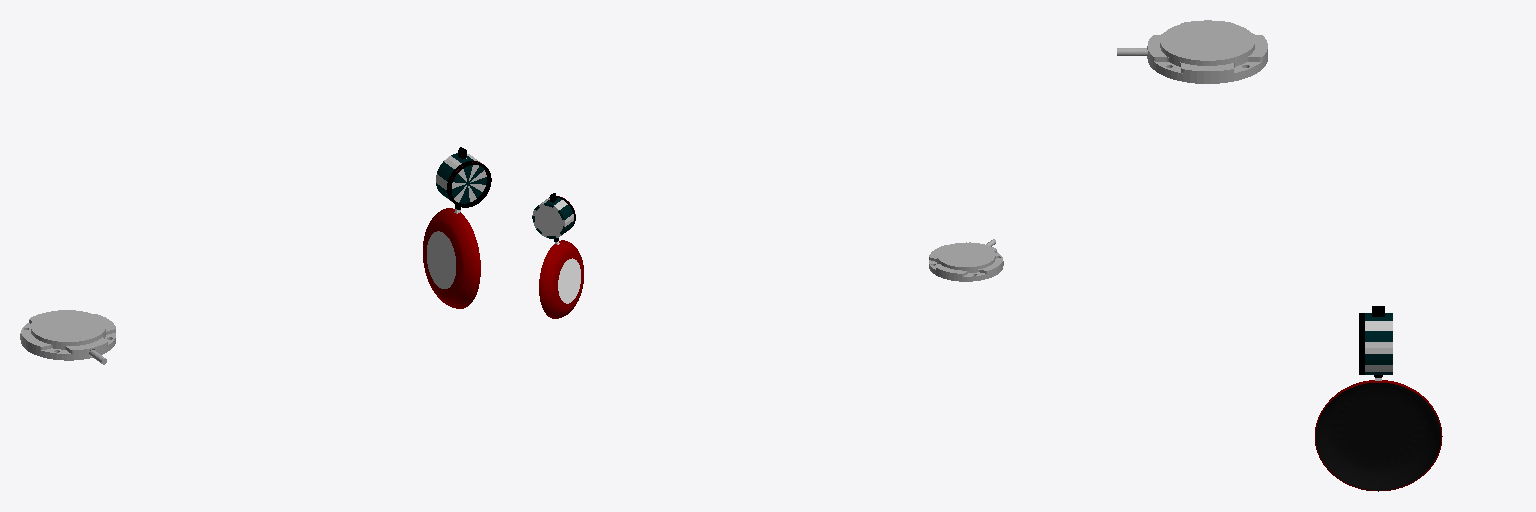
The robot description file, URDF, robot "ur5":
<?xml version="1.0" encoding="utf-8"?>
<!-- =================================================================================== -->
<!-- |    This document was autogenerated by xacro from ur5_joint_limited_robot.urdf.xacro | -->
<!-- |    EDITING THIS FILE BY HAND IS NOT RECOMMENDED                                 | -->
<!-- =================================================================================== -->
<robot name="ur5">
  <gazebo>
    <plugin filename="libgazebo_ros_control.so" name="ros_control">
      <!--robotNamespace>/</robotNamespace-->
      <!--robotSimType>gazebo_ros_control/DefaultRobotHWSim</robotSimType-->
    </plugin>
    <!--
    <plugin name="gazebo_ros_power_monitor_controller" filename="libgazebo_ros_power_monitor.so">
      <alwaysOn>true</alwaysOn>
      <updateRate>1.0</updateRate>
      <timeout>5</timeout>
      <powerStateTopic>power_state</powerStateTopic>
      <powerStateRate>10.0</powerStateRate>
      <fullChargeCapacity>87.78</fullChargeCapacity>     
      <dischargeRate>-474</dischargeRate>
      <chargeRate>525</chargeRate>
      <dischargeVoltage>15.52</dischargeVoltage>
      <chargeVoltage>16.41</chargeVoltage>
    </plugin>
-->
  </gazebo>
  <!-- measured from model -->
  <!--property name="shoulder_height" value="0.089159" /-->
  <!--property name="shoulder_offset" value="0.13585" /-->
  <!-- shoulder_offset - elbow_offset + wrist_1_length = 0.10915 -->
  <!--property name="upper_arm_length" value="0.42500" /-->
  <!--property name="elbow_offset" value="0.1197" /-->
  <!-- CAD measured -->
  <!--property name="forearm_length" value="0.39225" /-->
  <!--property name="wrist_1_length" value="0.093" /-->
  <!-- CAD measured -->
  <!--property name="wrist_2_length" value="0.09465" /-->
  <!-- In CAD this distance is 0.930, but in the spec it is 0.09465 -->
  <!--property name="wrist_3_length" value="0.0823" /-->
  <!-- manually measured -->
  <link name="base_link">
    <visual>
      <geometry>
        <mesh filename="package://ur5_description/meshes/visual/base_blender.dae"/>
      </geometry>
      <material name="LightGrey">
        <color rgba="0.7 0.7 0.7 1.0"/>
      </material>
    </visual>
    <collision>
      <geometry>
        <mesh filename="package://ur5_description/meshes/collision/base.obj"/>
      </geometry>
    </collision>
    <inertial>
      <mass value="4.0"/>
      <origin rpy="0 0 0" xyz="0.0 0.0 0.0"/>
      <inertia ixx="0.00443333156" ixy="0.0" ixz="0.0" iyy="0.00443333156" iyz="0.0" izz="0.0072"/>
    </inertial>
  </link>
  <joint name="shoulder_pan_joint" type="revolute">
    <parent link="base_link"/>
    <child link="shoulder_link"/>
    <origin rpy="0.0 0.0 0.0" xyz="0.0 0.0 0.089159"/>
    <axis xyz="0 0 1"/>
    <limit effort="150.0" lower="-0.0314159265359" upper="0.0314159265359" velocity="3.15"/>
    <dynamics damping="0.0" friction="0.0"/>
  </joint>
  <link name="shoulder_link">
    <visual>
      <geometry>
        <mesh filename="package://ur5_description/meshes/visual/shoulder.dae"/>
      </geometry>
      <material name="LightGrey">
        <color rgba="0.7 0.7 0.7 1.0"/>
      </material>
    </visual>
    <collision>
      <geometry>
        <mesh filename="package://ur5_description/meshes/collision/shoulder.obj"/>
      </geometry>
    </collision>
    <inertial>
      <mass value="3.7"/>
      <origin rpy="0 0 0" xyz="0.0 0.0 0.0"/>
      <inertia ixx="0.010267495893" ixy="0.0" ixz="0.0" iyy="0.010267495893" iyz="0.0" izz="0.00666"/>
    </inertial>
  </link>
  <joint name="shoulder_lift_joint" type="revolute">
    <parent link="shoulder_link"/>
    <child link="upper_arm_link"/>
    <origin rpy="0.0 1.57079632679 0.0" xyz="0.0 0.13585 0.0"/>
    <axis xyz="0 1 0"/>
    <limit effort="150.0" lower="-3.14159265359" upper="0" velocity="3.15"/>
    <dynamics damping="0.0" friction="0.0"/>
  </joint>
  <link name="upper_arm_link">
    <visual>
      <geometry>
        <mesh filename="package://ur5_description/meshes/visual/upperarm.dae"/>
      </geometry>
      <material name="LightGrey">
        <color rgba="0.7 0.7 0.7 1.0"/>
      </material>
    </visual>
    <collision>
      <geometry>
        <mesh filename="package://ur5_description/meshes/collision/upperarm.obj"/>
      </geometry>
    </collision>
    <inertial>
      <mass value="8.393"/>
      <origin rpy="0 0 0" xyz="0.0 0.0 0.28"/>
      <inertia ixx="0.22689067591" ixy="0.0" ixz="0.0" iyy="0.22689067591" iyz="0.0" izz="0.0151074"/>
    </inertial>
  </link>
  <joint name="elbow_joint" type="revolute">
    <parent link="upper_arm_link"/>
    <child link="forearm_link"/>
    <origin rpy="0.0 0.0 0.0" xyz="0.0 -0.1197 0.425"/>
    <axis xyz="0 1 0"/>
    <limit effort="150.0" lower="0" upper="3.14159265359" velocity="3.15"/>
    <dynamics damping="0.0" friction="0.0"/>
  </joint>
  <link name="forearm_link">
    <visual>
      <geometry>
        <mesh filename="package://ur5_description/meshes/visual/forearm.dae"/>
      </geometry>
      <material name="LightGrey">
        <color rgba="0.7 0.7 0.7 1.0"/>
      </material>
    </visual>
    <collision>
      <geometry>
        <mesh filename="package://ur5_description/meshes/collision/forearm.obj"/>
      </geometry>
    </collision>
    <inertial>
      <mass value="2.275"/>
      <origin rpy="0 0 0" xyz="0.0 0.0 0.196125"/>
      <inertia ixx="0.0312167910289" ixy="0.0" ixz="0.0" iyy="0.0312167910289" iyz="0.0" izz="0.004095"/>
    </inertial>
  </link>
  <joint name="wrist_1_joint" type="revolute">
    <parent link="forearm_link"/>
    <child link="wrist_1_link"/>
    <origin rpy="0.0 1.57079632679 0.0" xyz="0.0 0.0 0.39225"/>
    <axis xyz="0 1 0"/>
    <limit effort="28.0" lower="-1.57079632679" upper="0" velocity="3.2"/>
    <dynamics damping="0.0" friction="0.0"/>
  </joint>
  <link name="wrist_1_link">
    <visual>
      <geometry>
        <mesh filename="package://ur5_description/meshes/visual/wrist1.dae"/>
      </geometry>
      <material name="LightGrey">
        <color rgba="0.7 0.7 0.7 1.0"/>
      </material>
    </visual>
    <collision>
      <geometry>
        <mesh filename="package://ur5_description/meshes/collision/wrist1.obj"/>
      </geometry>
    </collision>
    <inertial>
      <mass value="1.219"/>
      <origin rpy="0 0 0" xyz="0.0 0.093 0.0"/>
      <inertia ixx="0.00255989897604" ixy="0.0" ixz="0.0" iyy="0.00255989897604" iyz="0.0" izz="0.0021942"/>
    </inertial>
  </link>
  <joint name="wrist_2_joint" type="revolute">
    <parent link="wrist_1_link"/>
    <child link="wrist_2_link"/>
    <origin rpy="0.0 0.0 0.0" xyz="0.0 0.093 0.0"/>
    <axis xyz="0 0 1"/>
    <limit effort="28.0" lower="-0.0314159265359" upper="0.0314159265359" velocity="3.2"/>
    <dynamics damping="0.0" friction="0.0"/>
  </joint>
  <link name="wrist_2_link">
    <visual>
      <geometry>
        <mesh filename="package://ur5_description/meshes/visual/wrist2.dae"/>
      </geometry>
      <material name="LightGrey">
        <color rgba="0.7 0.7 0.7 1.0"/>
      </material>
    </visual>
    <collision>
      <geometry>
        <mesh filename="package://ur5_description/meshes/collision/wrist2.obj"/>
      </geometry>
    </collision>
    <inertial>
      <mass value="1.219"/>
      <origin rpy="0 0 0" xyz="0.0 0.0 0.09465"/>
      <inertia ixx="0.00255989897604" ixy="0.0" ixz="0.0" iyy="0.00255989897604" iyz="0.0" izz="0.0021942"/>
    </inertial>
  </link>
  <joint name="wrist_3_joint" type="revolute">
    <parent link="wrist_2_link"/>
    <child link="wrist_3_link"/>
    <origin rpy="0.0 0.0 0.0" xyz="0.0 0.0 0.09465"/>
    <axis xyz="0 1 0"/>
    <limit effort="150.0" lower="-3.14159265359" upper="3.14159265359" velocity="3.2"/>
    <dynamics damping="0.0" friction="0.0"/>
  </joint>
  <link name="wrist_3_link">
    <visual>
      <geometry>
        <mesh filename="package://ur5_description/meshes/visual/wrist3.dae"/>
      </geometry>
      <material name="LightGrey">
        <color rgba="0.7 0.7 0.7 1.0"/>
      </material>
    </visual>
    <collision>
      <geometry>
        <mesh filename="package://ur5_description/meshes/collision/wrist3.obj"/>
      </geometry>
    </collision>
    <inertial>
      <mass value="0.1879"/>
      <origin rpy="1.57079632679 0 0" xyz="0.0 0.06505 0.0"/>
      <inertia ixx="8.46958911216e-05" ixy="0.0" ixz="0.0" iyy="8.46958911216e-05" iyz="0.0" izz="0.0001321171875"/>
    </inertial>
  </link>
  <joint name="ee_fixed_joint" type="fixed">
    <parent link="wrist_3_link"/>
    <child link="ee_link"/>
    <origin rpy="0.0 0.0 1.57079632679" xyz="0.0 0.0823 0.0"/>
  </joint>
  <link name="ee_link">
    <visual>
      <geometry>
        <mesh filename="package://ur5_description/meshes/visual/frying_pan_attachment.dae" scale="1 1 1"/>
      </geometry>
      <origin rpy="0 4.810563751 -1.5707963267948966" xyz="-0.0075 0 0"/> <!-- π+(17÷32)×π -->
    </visual>
    <collision>
      <geometry>
        <mesh filename="package://ur5_description/meshes/collision/frying_pan_attachment.obj" scale="1 1 1"/>
      </geometry>
      <origin rpy="1.5707963267948966 4.810563751 -1.5707963267948966" xyz="-0.0075 0 0"/>
    </collision>
  </link>
  <transmission name="shoulder_pan_trans">
    <type>transmission_interface/SimpleTransmission</type>
    <joint name="shoulder_pan_joint">
      <hardwareInterface>hardware_interface/PositionJointInterface</hardwareInterface>
    </joint>
    <actuator name="shoulder_pan_motor">
      <mechanicalReduction>1</mechanicalReduction>
    </actuator>
  </transmission>
  <transmission name="shoulder_lift_trans">
    <type>transmission_interface/SimpleTransmission</type>
    <joint name="shoulder_lift_joint">
      <hardwareInterface>hardware_interface/PositionJointInterface</hardwareInterface>
    </joint>
    <actuator name="shoulder_lift_motor">
      <mechanicalReduction>1</mechanicalReduction>
    </actuator>
  </transmission>
  <transmission name="elbow_trans">
    <type>transmission_interface/SimpleTransmission</type>
    <joint name="elbow_joint">
      <hardwareInterface>hardware_interface/PositionJointInterface</hardwareInterface>
    </joint>
    <actuator name="elbow_motor">
      <mechanicalReduction>1</mechanicalReduction>
    </actuator>
  </transmission>
  <transmission name="wrist_1_trans">
    <type>transmission_interface/SimpleTransmission</type>
    <joint name="wrist_1_joint">
      <hardwareInterface>hardware_interface/PositionJointInterface</hardwareInterface>
    </joint>
    <actuator name="wrist_1_motor">
      <mechanicalReduction>1</mechanicalReduction>
    </actuator>
  </transmission>
  <transmission name="wrist_2_trans">
    <type>transmission_interface/SimpleTransmission</type>
    <joint name="wrist_2_joint">
      <hardwareInterface>hardware_interface/PositionJointInterface</hardwareInterface>
    </joint>
    <actuator name="wrist_2_motor">
      <mechanicalReduction>1</mechanicalReduction>
    </actuator>
  </transmission>
  <transmission name="wrist_3_trans">
    <type>transmission_interface/SimpleTransmission</type>
    <joint name="wrist_3_joint">
      <hardwareInterface>hardware_interface/PositionJointInterface</hardwareInterface>
    </joint>
    <actuator name="wrist_3_motor">
      <mechanicalReduction>1</mechanicalReduction>
    </actuator>
  </transmission>
  <gazebo reference="shoulder_link">
    <selfCollide>true</selfCollide>
  </gazebo>
  <gazebo reference="upper_arm_link">
    <selfCollide>true</selfCollide>
  </gazebo>
  <gazebo reference="forearm_link">
    <selfCollide>true</selfCollide>
  </gazebo>
  <gazebo reference="wrist_1_link">
    <selfCollide>true</selfCollide>
  </gazebo>
  <gazebo reference="wrist_3_link">
    <selfCollide>true</selfCollide>
  </gazebo>
  <gazebo reference="wrist_2_link">
    <selfCollide>true</selfCollide>
  </gazebo>
  <gazebo reference="ee_link">
    <selfCollide>true</selfCollide>
  </gazebo>
  <!-- ROS base_link to UR 'Base' Coordinates transform -->
  <link name="base"/>
  <joint name="base_link-base_fixed_joint" type="fixed">
    <!-- NOTE: this rotation is only needed as long as base_link itself is
                 not corrected wrt the real robot (ie: rotated over 180
                 degrees)
      -->
    <origin rpy="0 0 -3.14159265359" xyz="0 0 0"/>
    <parent link="base_link"/>
    <child link="base"/>
  </joint>
  <!-- Frame coincident with all-zeros TCP on UR controller -->
  <link name="tool0"/>
  <joint name="wrist_3_link-tool0_fixed_joint" type="fixed">
    <origin rpy="-1.57079632679 0 0" xyz="0 0.0823 0"/>
    <parent link="wrist_3_link"/>
    <child link="tool0"/>
  </joint>
  <link name="world"/>
  <joint name="world_joint" type="fixed">
    <parent link="world"/>
    <child link="base_link"/>
    <origin rpy="0.0 0.0 0.0" xyz="0.0 0.0 0.0"/>
  </joint>
</robot>

--- Render facts (derived) ---
The picture shows the robot from 3 angles, left to right: view 1: azimuth 30°, elevation 25°; view 2: azimuth 150°, elevation 25°; view 3: azimuth 270°, elevation 25°; orthographic projection.
Robot: ur5 — 11 links, 10 joints (6 revolute, 4 fixed); root link world; default pose: every joint at zero.
Visible links, largest first — view 1: ee_link, base_link; view 2: ee_link, base_link; view 3: ee_link, base_link.
Link boxes in pixels (box(x1,y1,x2,y2)): ee_link: box(423, 147, 491, 308); base_link: box(20, 310, 115, 364); ee_link: box(532, 193, 583, 318); base_link: box(929, 239, 1003, 281); ee_link: box(1315, 306, 1442, 491); base_link: box(1117, 20, 1267, 83).
Size in the robot's own frame: 0.928 by 0.396 by 0.2595 metres.
Meshes: 8 distinct files referenced, 2 mesh visuals loaded (2 Collada DAE); not drawn: 6 (reference not matched to a file when rendering).